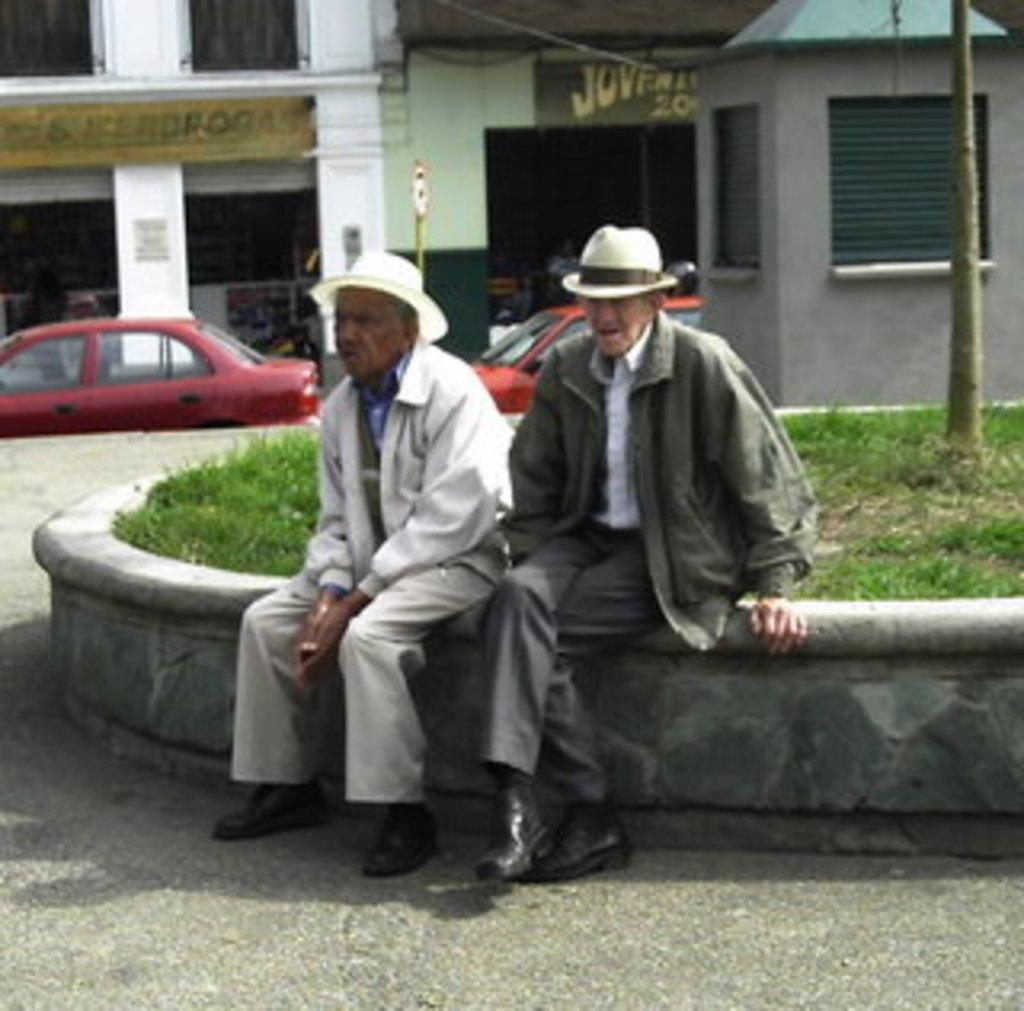Hat: (310, 245, 448, 352), (559, 220, 681, 300)
